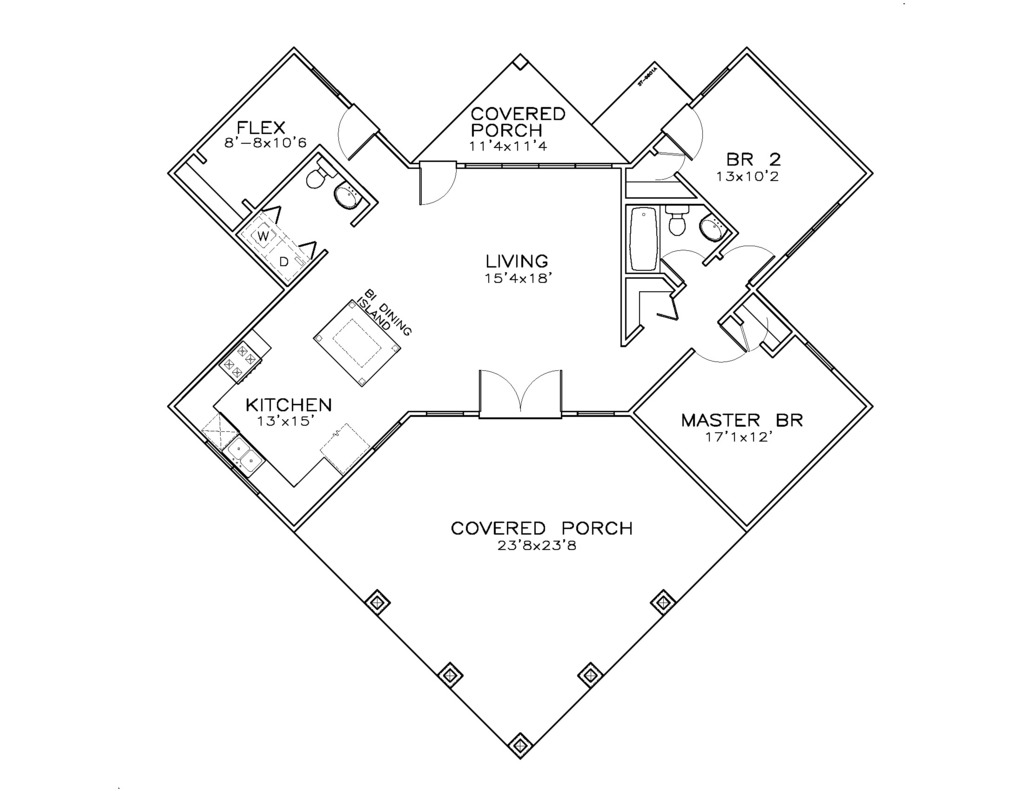door: (476, 369, 565, 418), (658, 102, 713, 157), (335, 105, 380, 161), (691, 323, 747, 362), (418, 160, 460, 207), (722, 243, 772, 280), (664, 247, 704, 288), (653, 153, 682, 179)
kitchen_bar: (163, 327, 271, 409)
large_sink: (300, 155, 339, 190), (668, 203, 694, 236)
small_sink: (326, 178, 366, 208), (699, 206, 725, 238)
tub: (629, 202, 659, 269)
twin_sink: (216, 430, 268, 474)
